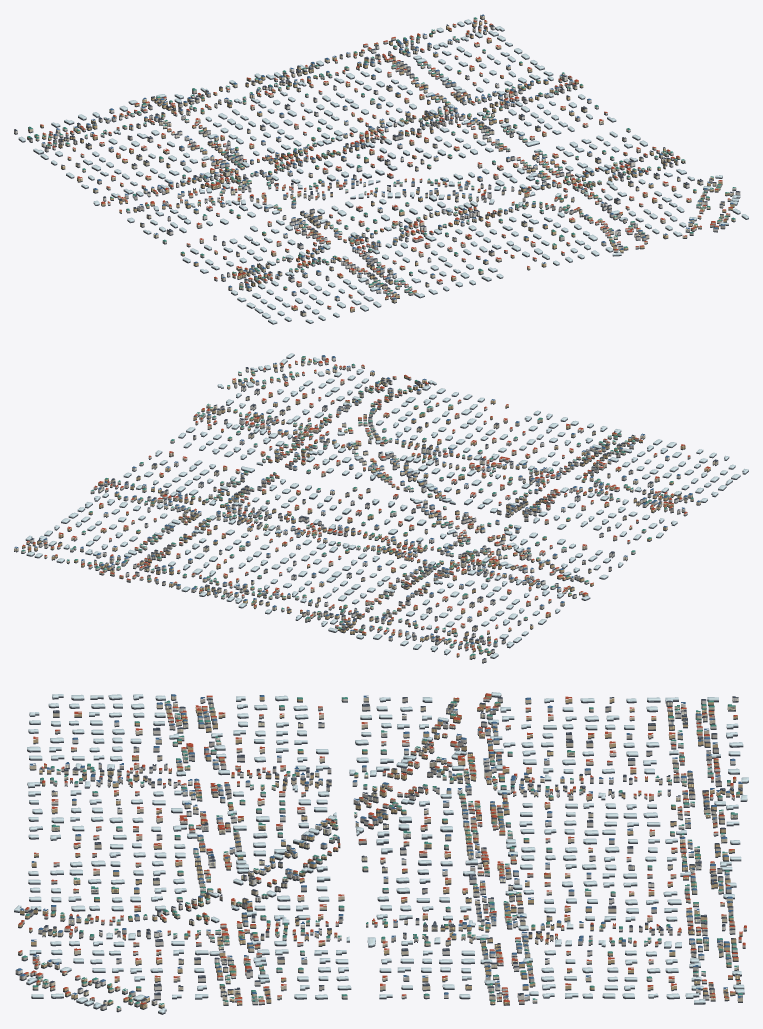
File: osm_buildings_T_E02_N03.glb
The picture shows the model from 3 angles, top to bottom: view 1: azimuth 30°, elevation 25°; view 2: azimuth 150°, elevation 25°; view 3: azimuth 270°, elevation 25°; orthographic projection. The views are drawn at different scales.
Parts seen in each view (by area): view 1: OSM_T_E02_N03_foundation, OSM_T_E02_N03_greenhouse_blend, OSM_T_E02_N03_wall_french_ochre, OSM_T_E02_N03_wall_cream_stucco, OSM_T_E02_N03_wall_warm_white, OSM_T_E02_N03_wall_pastel_sand, OSM_T_E02_N03_roof_terracotta, OSM_T_E02_N03_roof_mansard_slate, OSM_T_E02_N03_roof_mint_metal, OSM_T_E02_N03_roof_alpine_blue; view 2: OSM_T_E02_N03_foundation, OSM_T_E02_N03_greenhouse_blend, OSM_T_E02_N03_wall_french_ochre, OSM_T_E02_N03_wall_cream_stucco, OSM_T_E02_N03_wall_warm_white, OSM_T_E02_N03_wall_pastel_sand, OSM_T_E02_N03_roof_terracotta, OSM_T_E02_N03_roof_mansard_slate, OSM_T_E02_N03_roof_mint_metal, OSM_T_E02_N03_roof_alpine_blue; view 3: OSM_T_E02_N03_foundation, OSM_T_E02_N03_greenhouse_blend, OSM_T_E02_N03_wall_french_ochre, OSM_T_E02_N03_wall_cream_stucco, OSM_T_E02_N03_wall_warm_white, OSM_T_E02_N03_wall_pastel_sand, OSM_T_E02_N03_roof_terracotta, OSM_T_E02_N03_roof_mansard_slate, OSM_T_E02_N03_roof_mint_metal, OSM_T_E02_N03_roof_alpine_blue, OSM_T_E02_N03_roof_mansard_deck, OSM_T_E02_N03_glass_blend_85.
Part boxes in pixels (x1,y1,x2,y2): OSM_T_E02_N03_foundation: [14, 18, 748, 324]; OSM_T_E02_N03_greenhouse_blend: [18, 19, 748, 323]; OSM_T_E02_N03_wall_french_ochre: [27, 20, 734, 311]; OSM_T_E02_N03_wall_cream_stucco: [28, 15, 735, 315]; OSM_T_E02_N03_wall_warm_white: [14, 18, 740, 300]; OSM_T_E02_N03_wall_pastel_sand: [44, 27, 736, 308]; OSM_T_E02_N03_roof_terracotta: [40, 20, 732, 308]; OSM_T_E02_N03_roof_mansard_slate: [14, 20, 740, 313]; OSM_T_E02_N03_roof_mint_metal: [27, 17, 735, 294]; OSM_T_E02_N03_roof_alpine_blue: [42, 14, 734, 299]; OSM_T_E02_N03_foundation: [14, 355, 748, 663]; OSM_T_E02_N03_greenhouse_blend: [25, 353, 748, 657]; OSM_T_E02_N03_wall_french_ochre: [22, 359, 710, 656]; OSM_T_E02_N03_wall_cream_stucco: [14, 356, 718, 658]; OSM_T_E02_N03_wall_warm_white: [21, 357, 687, 662]; OSM_T_E02_N03_wall_pastel_sand: [38, 356, 690, 650]; OSM_T_E02_N03_roof_terracotta: [22, 358, 710, 654]; OSM_T_E02_N03_roof_mansard_slate: [28, 361, 718, 659]; OSM_T_E02_N03_roof_mint_metal: [21, 356, 693, 655]; OSM_T_E02_N03_roof_alpine_blue: [14, 355, 700, 645]; OSM_T_E02_N03_foundation: [14, 695, 748, 1014]; OSM_T_E02_N03_greenhouse_blend: [14, 692, 748, 1013]; OSM_T_E02_N03_wall_french_ochre: [18, 695, 742, 1008]; OSM_T_E02_N03_wall_cream_stucco: [18, 695, 742, 1004]; OSM_T_E02_N03_wall_warm_white: [15, 697, 742, 1009]; OSM_T_E02_N03_wall_pastel_sand: [19, 698, 746, 1010]; OSM_T_E02_N03_roof_terracotta: [18, 693, 746, 1004]; OSM_T_E02_N03_roof_mansard_slate: [29, 696, 742, 1006]; OSM_T_E02_N03_roof_mint_metal: [22, 697, 742, 1008]; OSM_T_E02_N03_roof_alpine_blue: [16, 694, 742, 997]; OSM_T_E02_N03_roof_mansard_deck: [53, 703, 741, 994]; OSM_T_E02_N03_glass_blend_85: [20, 696, 737, 1007].
Bounding box in the file's own units: 1985 × 45.88 × 1931.
